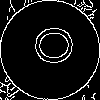O: (25, 25, 74, 67)
